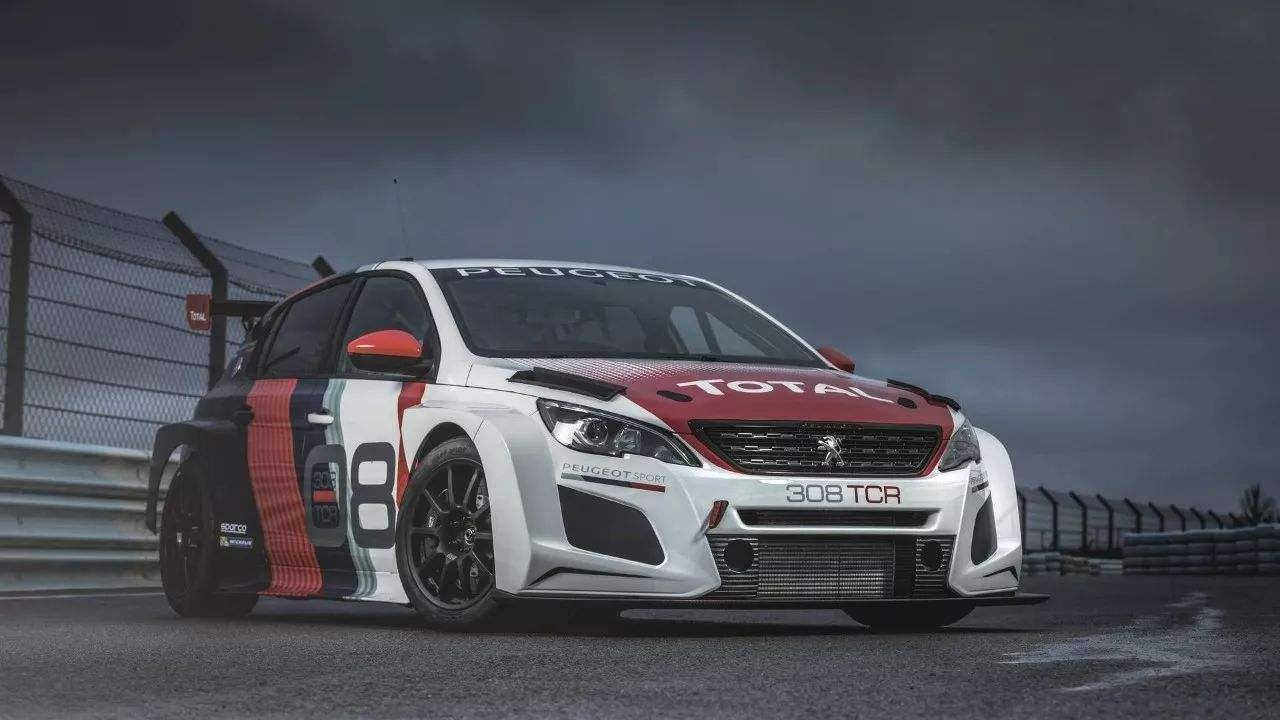racing car: (116, 224, 1071, 660)
